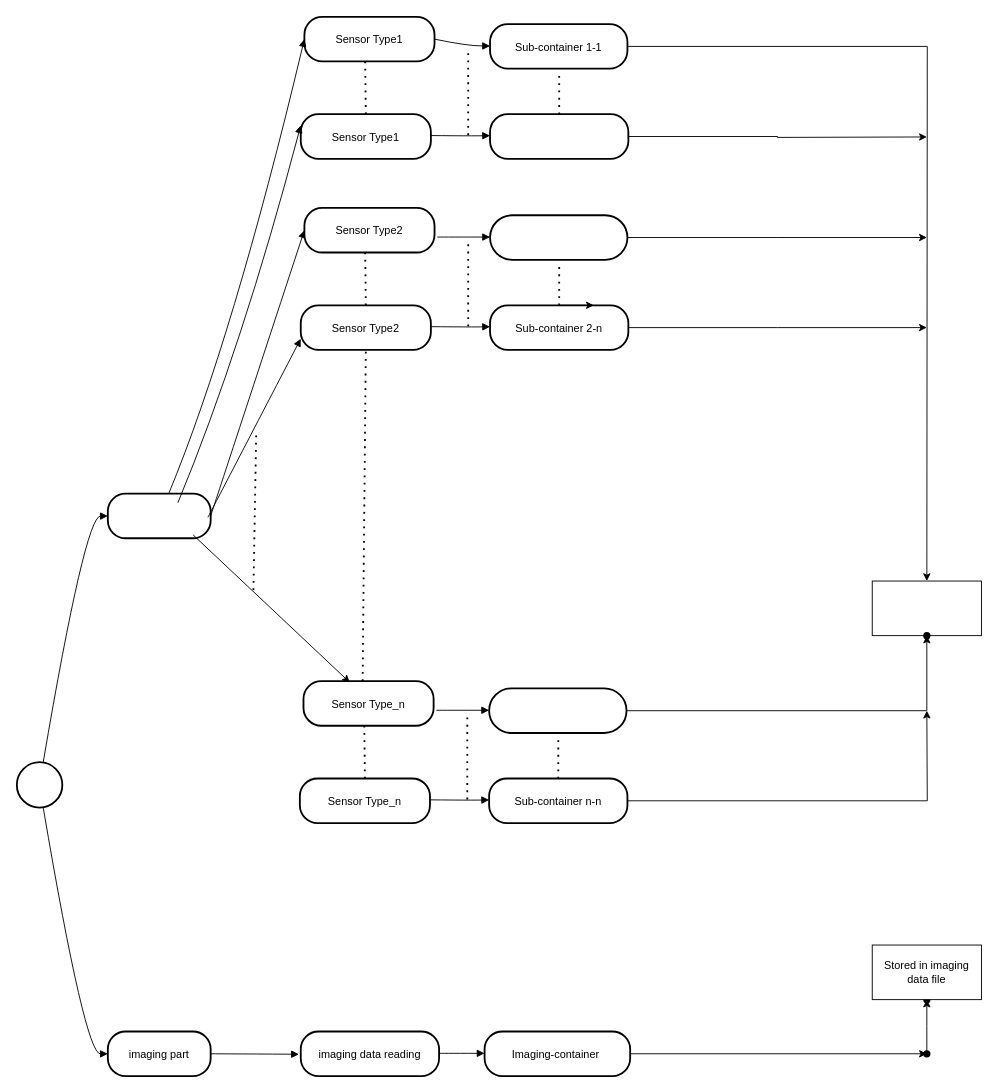
Some shapes in this 997 by 1092 pixel diagram are drawn without their labels. The box of each missing label's shape, as (x1, y1, x2, y2) in pixels:
sensor part: (106, 492, 211, 539)
Start: (15, 761, 63, 808)
Stored in sensor data file: (871, 580, 981, 636)
Sub-container 1-n: (489, 113, 629, 159)
Sub-container 2-1: (489, 214, 628, 260)
Sub-container n-1: (488, 687, 627, 733)
